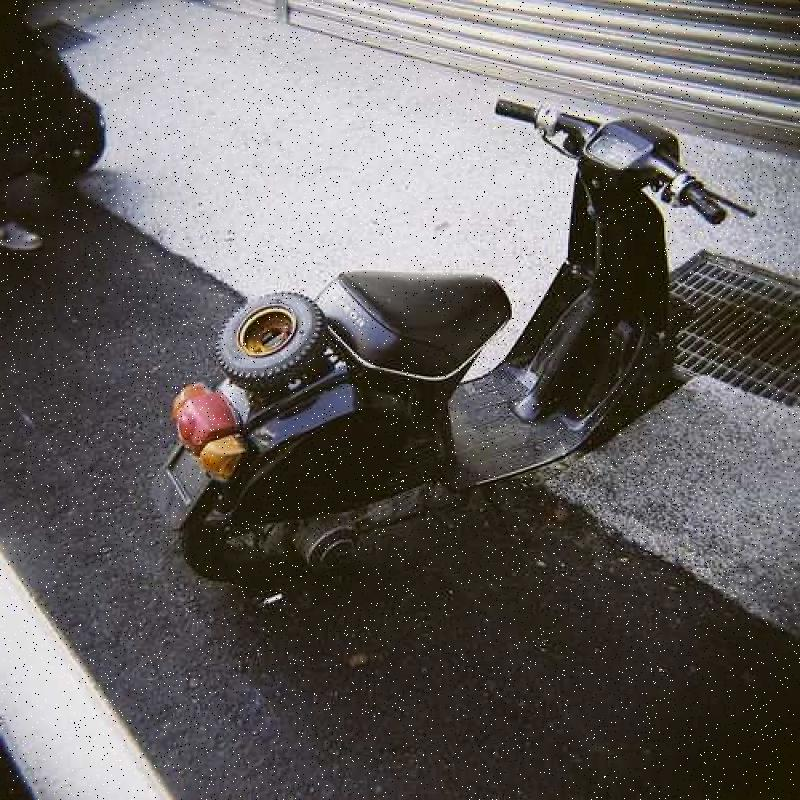bike: (136, 68, 723, 579)
